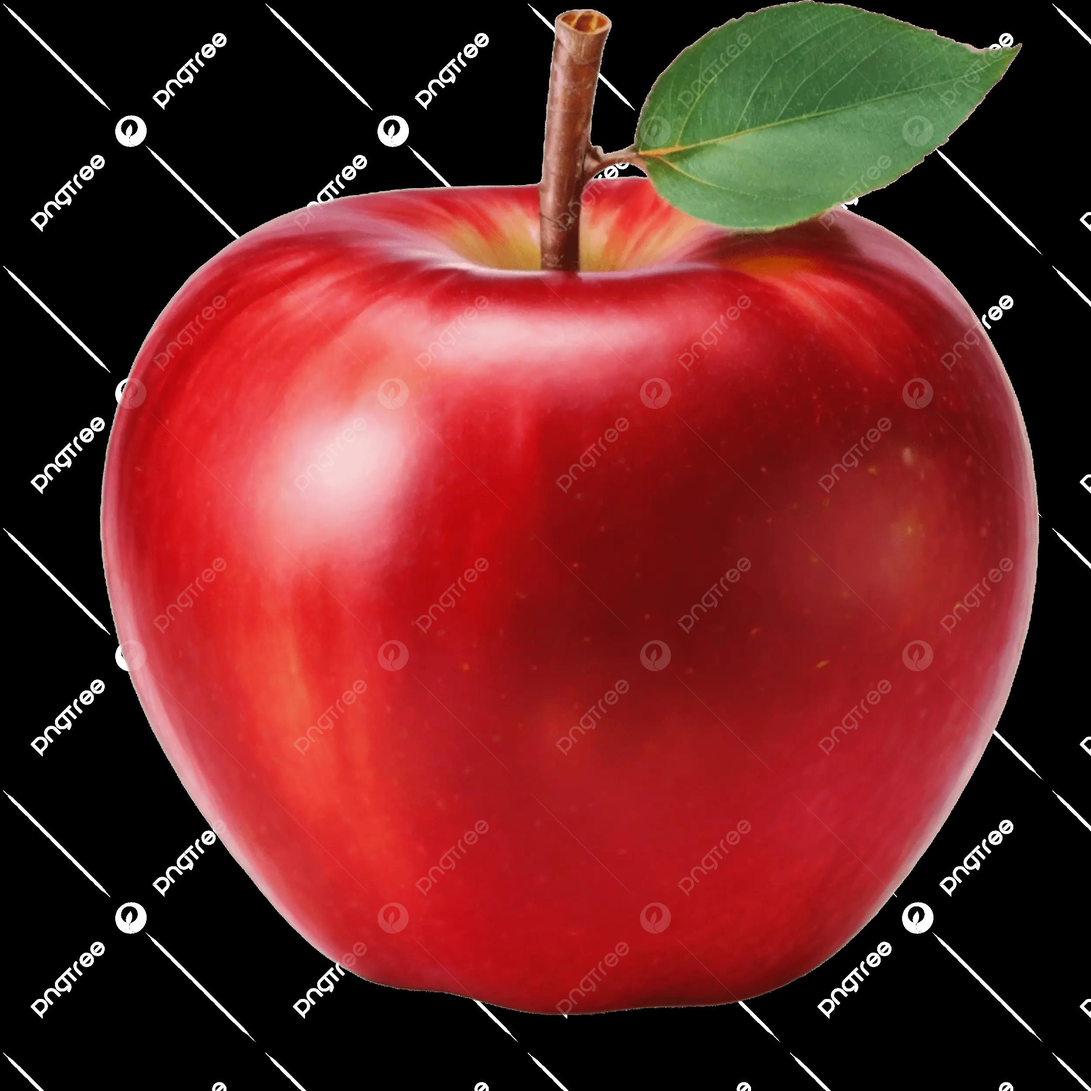apples: (49, 27, 1037, 1020), (40, 55, 53, 56)
